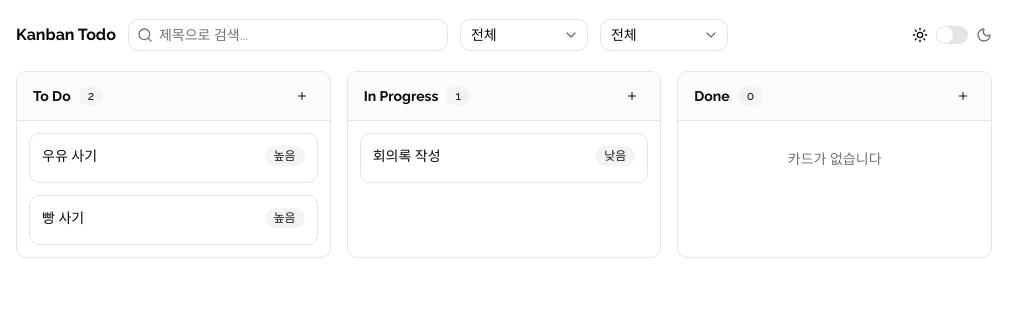
Test case: KANBAN-013: 검색과 필터 동시 적용 › example 2: 검색 '우유' + 필터 '낮음' → 0건
Type "우유" into the search field at {"x": 300, "y": 35}, box [153,19,447,51]
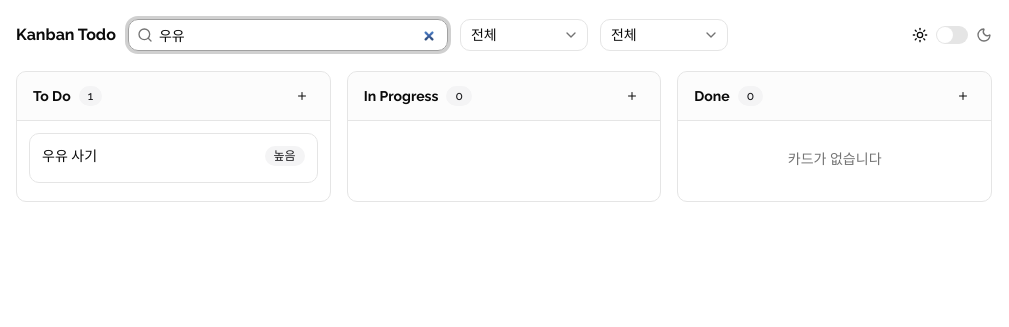
Click the dropdown named "우선순위" at {"x": 524, "y": 35}, box [460,19,588,51]
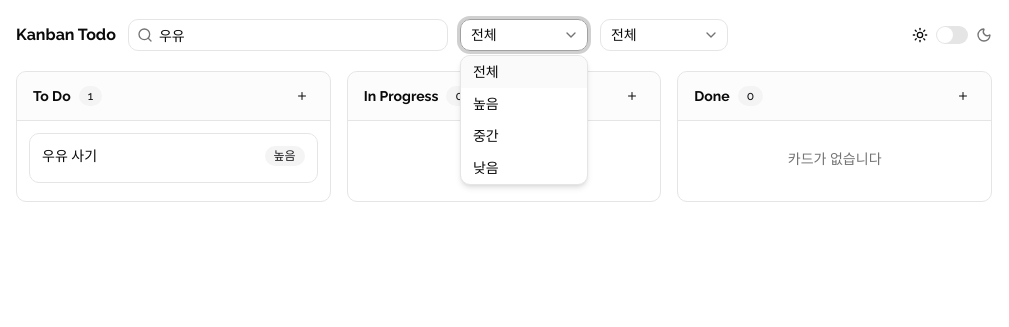
Click the option "낮음" at {"x": 486, "y": 168}, box [473,160,499,176]
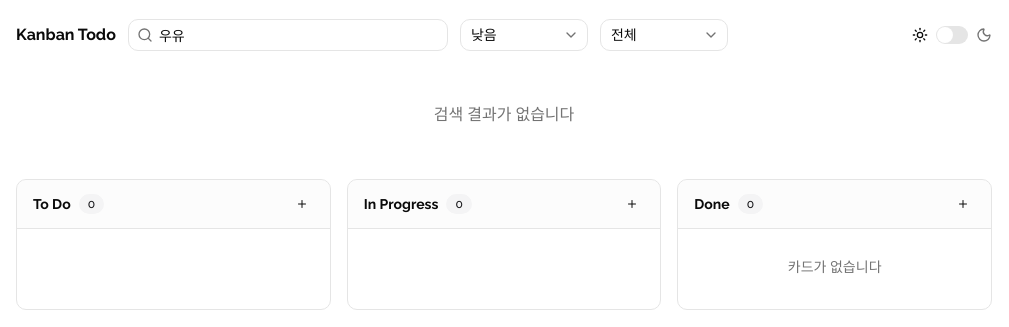
Now the text "검색 결과가 없습니다" is shown, box [434,105,574,124]
